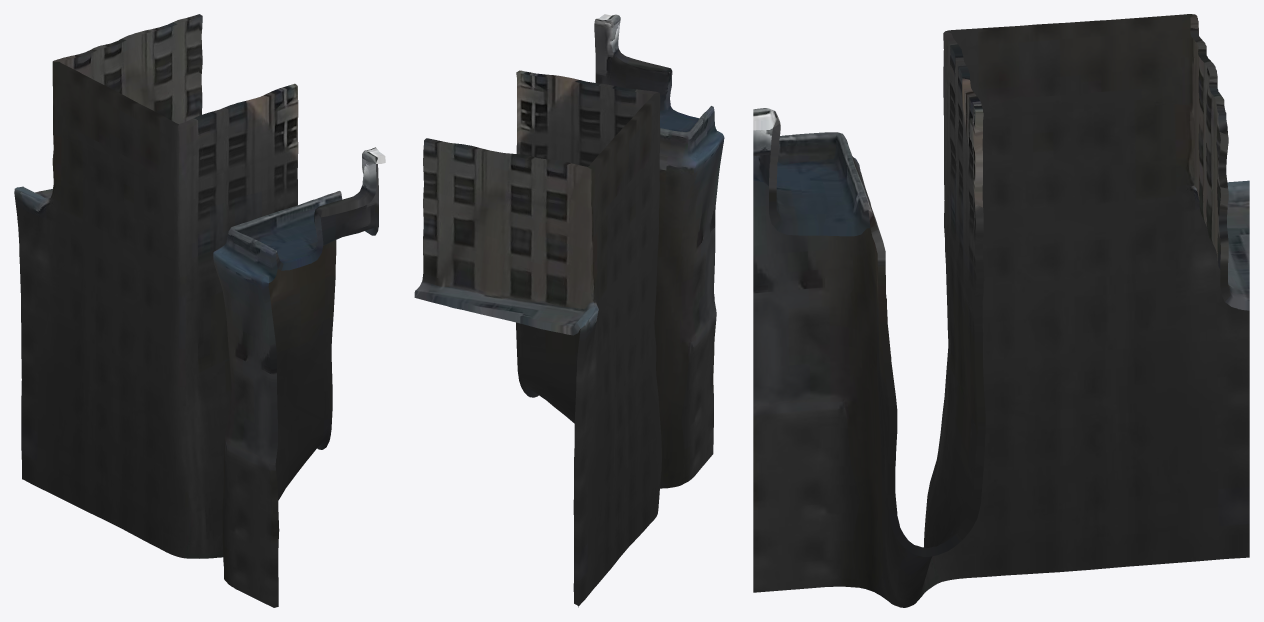
File: z20-167768-405236-h1-yup-uvflip-v3-world.glb
The picture shows the model from 3 angles, left to right: view 1: azimuth 30°, elevation 25°; view 2: azimuth 150°, elevation 25°; view 3: azimuth 270°, elevation 25°; orthographic projection. The views are drawn at different scales.
Size of the model in its own units: 15.84 by 37.08 by 30.32.
1 material, 1 textured.
